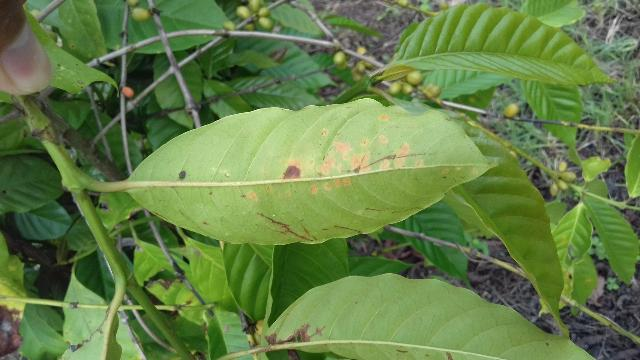rust_level_2: (118, 97, 516, 247)
